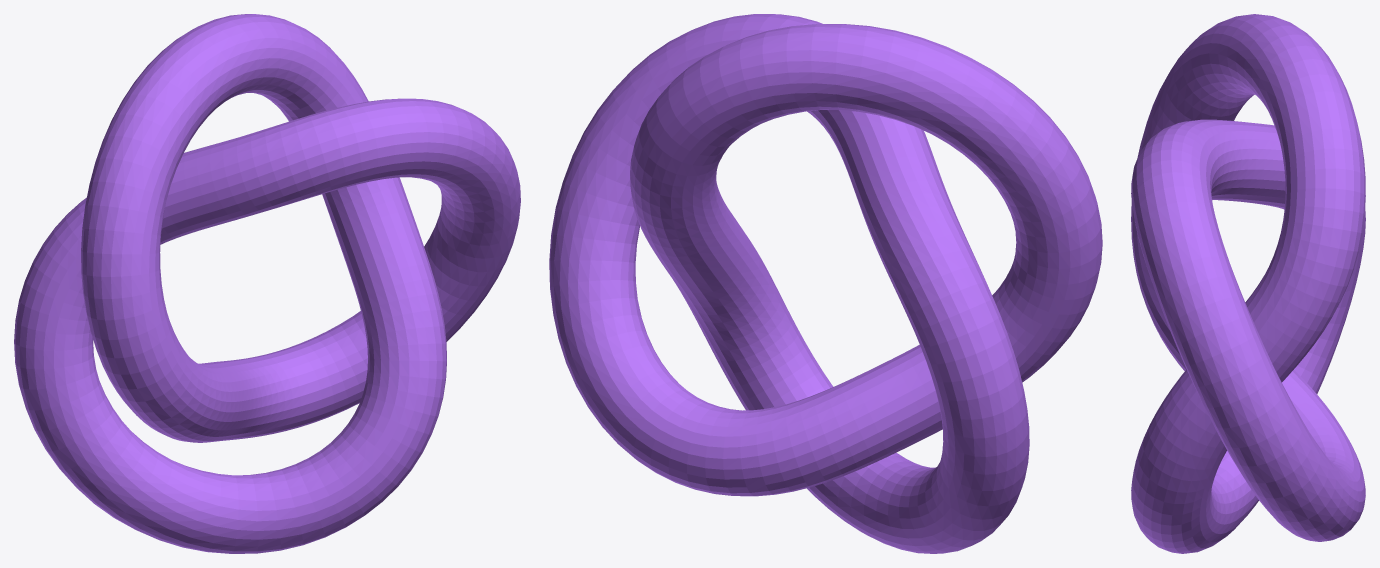
Rendered from violet-sculpture.glb.
3 renders of one model, left to right at view 1: azimuth 30°, elevation 25°; view 2: azimuth 150°, elevation 25°; view 3: azimuth 270°, elevation 25°, orthographic. The views are drawn at different scales.
Visible parts, largest first — view 1: world; view 2: world; view 3: world.
Boxes of the visible parts, left/top/right/bottom form: world: left=14, top=14, right=520, bottom=553; world: left=549, top=14, right=1102, bottom=553; world: left=1131, top=14, right=1365, bottom=553.
Size of the model in its own units: 3.46 by 3.58 by 1.52.
